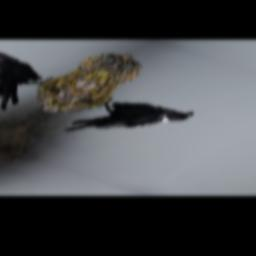Crow: (56, 87, 201, 158)
